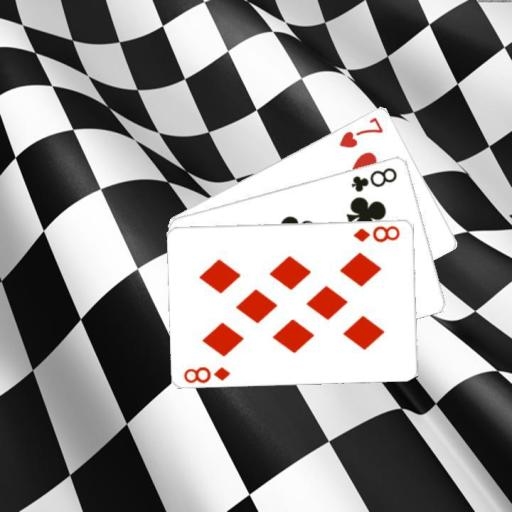7H: (336, 113, 386, 149)
8C: (348, 164, 399, 194)
8D: (350, 223, 402, 243), (181, 363, 233, 383)
